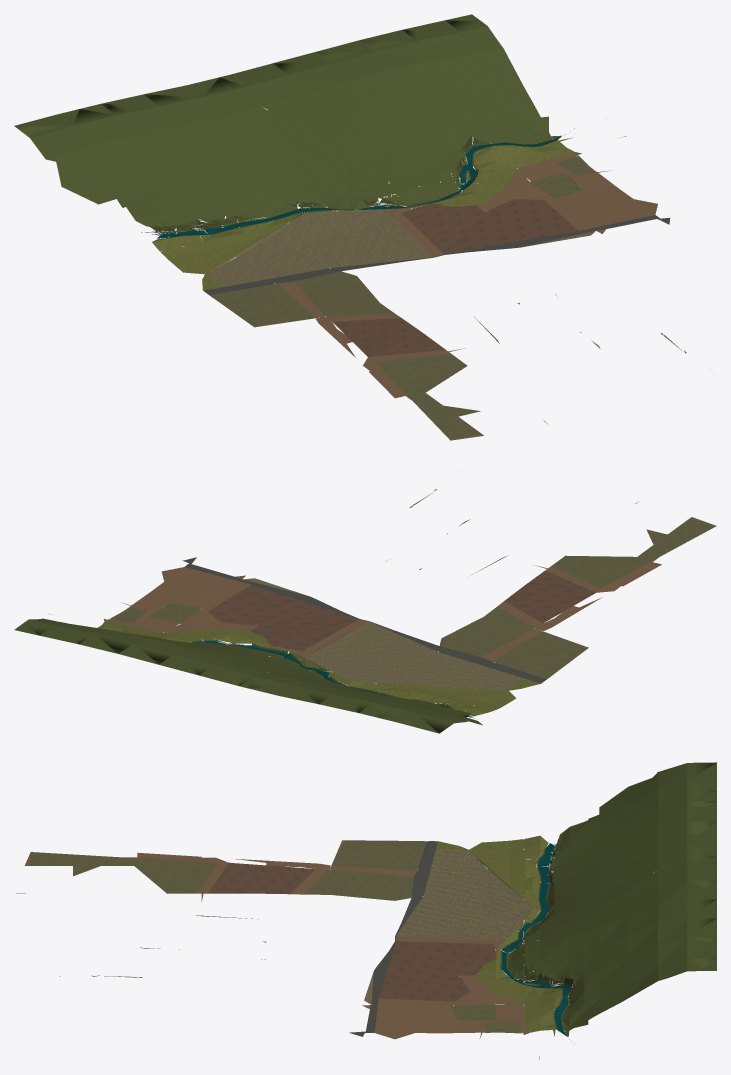
Rendered from TerrenoSoldadoSinTexturas4.fbx.
3 views of the same model, one above another, from view 1: azimuth 30°, elevation 25°; view 2: azimuth 150°, elevation 25°; view 3: azimuth 270°, elevation 25° (orthographic). The views are drawn at different scales.
Visible parts, largest first — view 1: lagua.004; view 2: lagua.004; view 3: lagua.004.
Boxes of the visible parts, left/top/right/bottom form: lagua.004: left=14, top=14, right=686, bottom=440; lagua.004: left=14, top=489, right=716, bottom=733; lagua.004: left=16, top=762, right=716, bottom=1059.
Size of the model in its own units: 43310 by 5569 by 54579.
